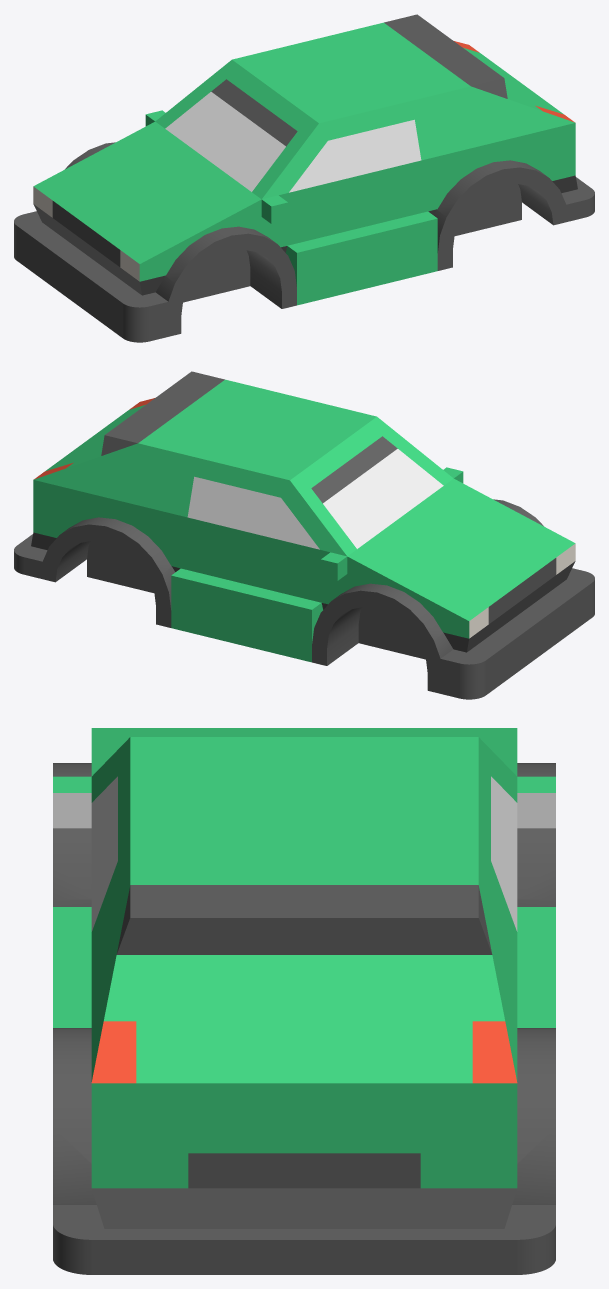
File: hatchbackSports.obj
The picture shows the model from 3 angles, top to bottom: view 1: azimuth 30°, elevation 25°; view 2: azimuth 150°, elevation 25°; view 3: azimuth 270°, elevation 25°; orthographic projection. The views are drawn at different scales.
Parts seen in each view (by area): view 1: body; view 2: body; view 3: body.
Boxes of the visible parts, x1,y1,x2,y2 form: body: (14,14,594,342); body: (14,371,594,699); body: (53,728,555,1274).
Size of the model in its own units: 2.1 by 0.675 by 0.975.
